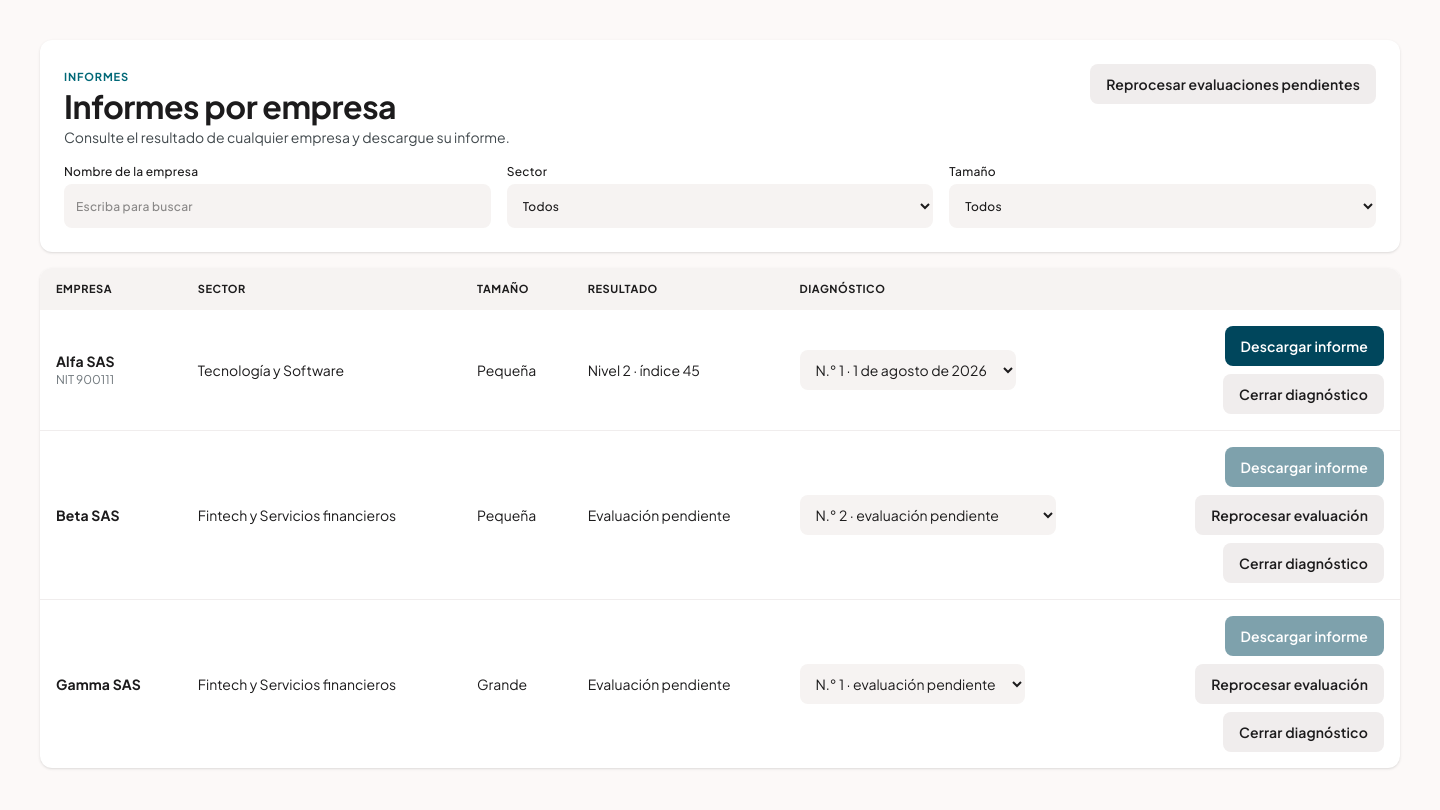
Informes por empresa: cierre y reproceso por el administrador › muestra el mensaje del servidor si el cierre falla
Click the button with aria-label "Cerrar el diagnóstico N.° 1 de Alfa SAS".
click(1304, 394)  # box x1=1223 y1=374 x2=1384 y2=414
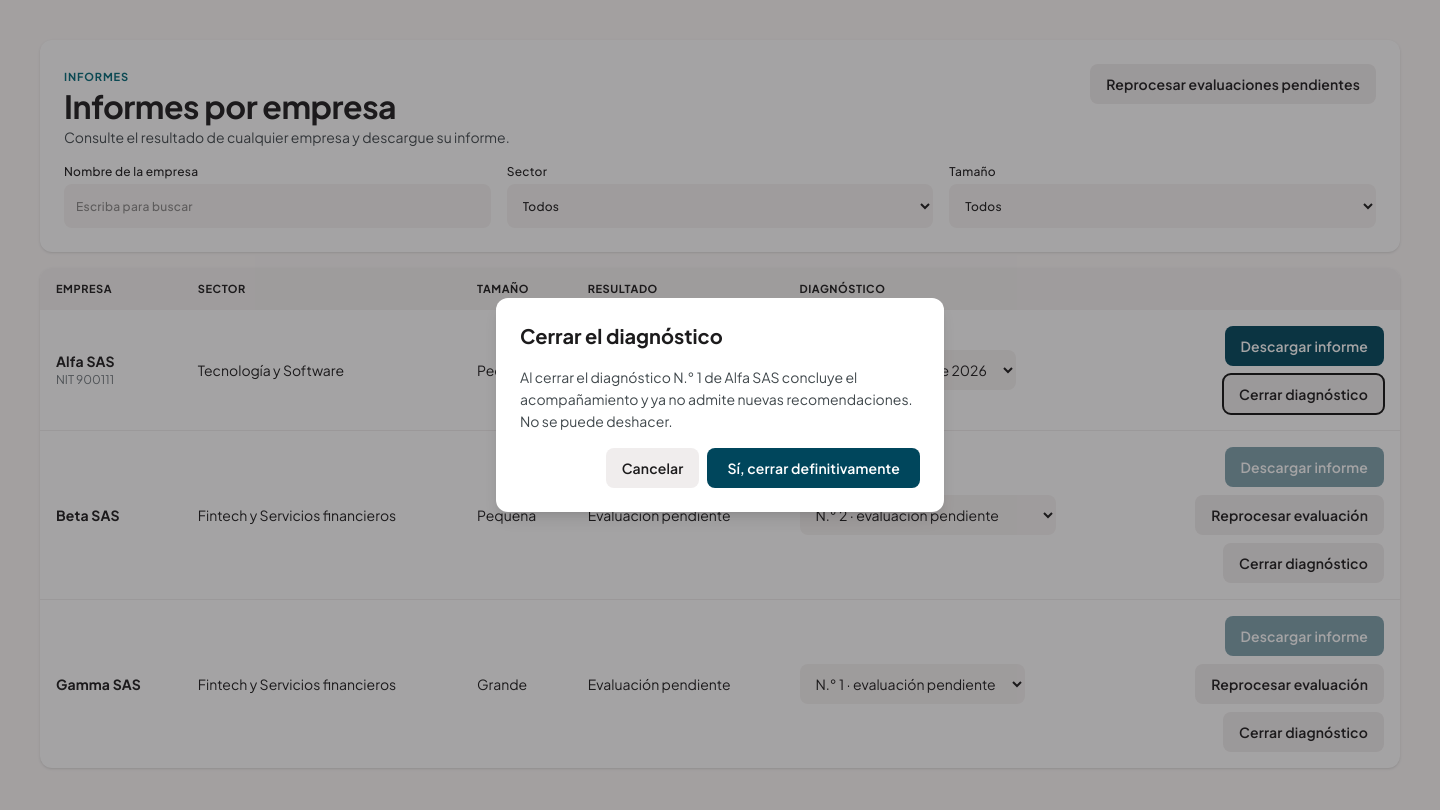
Click the button "Sí, cerrar definitivamente".
click(814, 468)  # box x1=708 y1=448 x2=920 y2=488
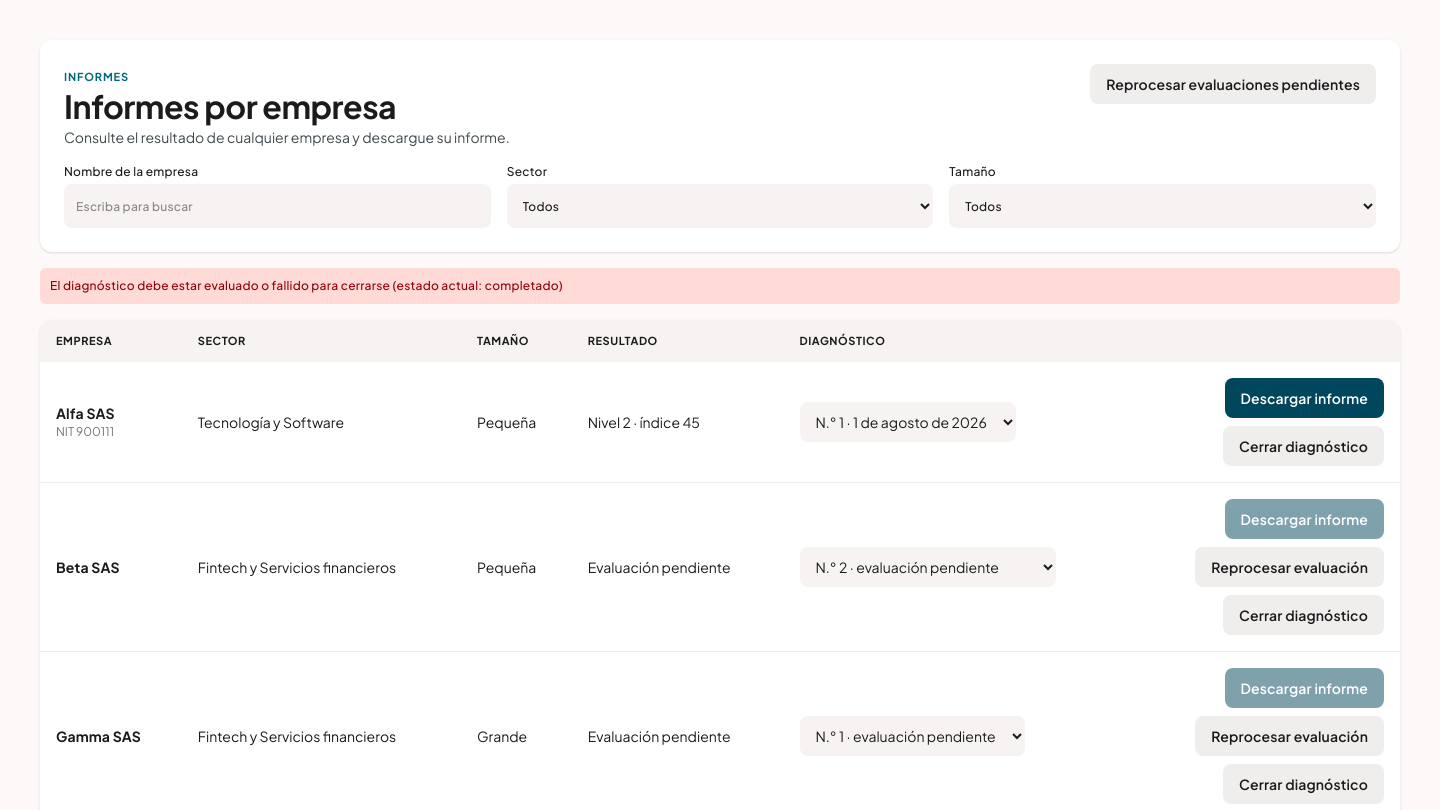
Check: the message shows "debe estar evaluado o fallido", box x1=50 y1=278 x2=563 y2=293
